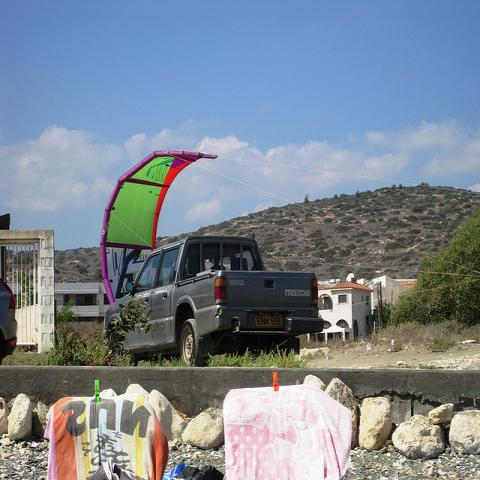car: (0, 276, 17, 364)
truck: (106, 237, 326, 368)
